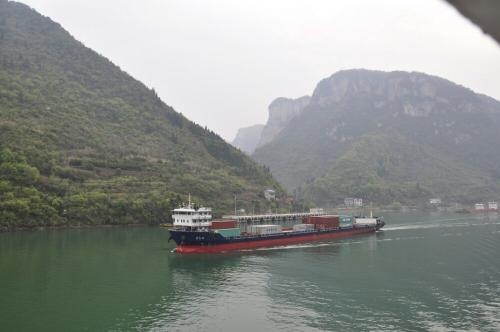Cargoship: (166, 187, 386, 253)
